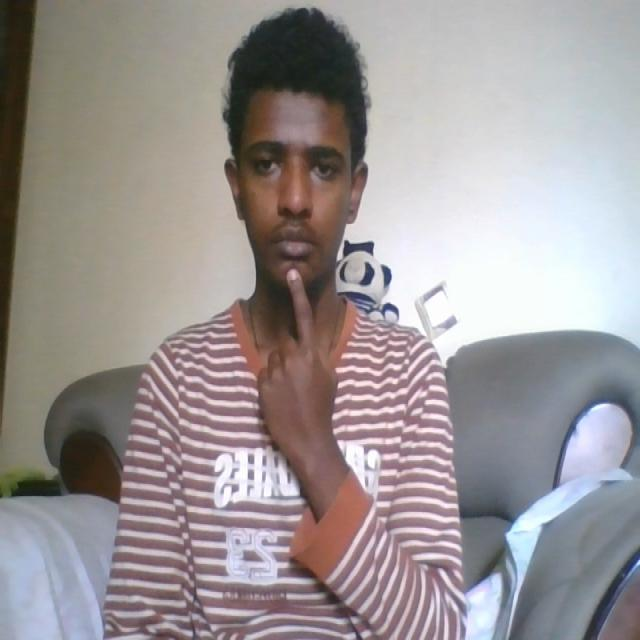lomi: (250, 240, 343, 459)
